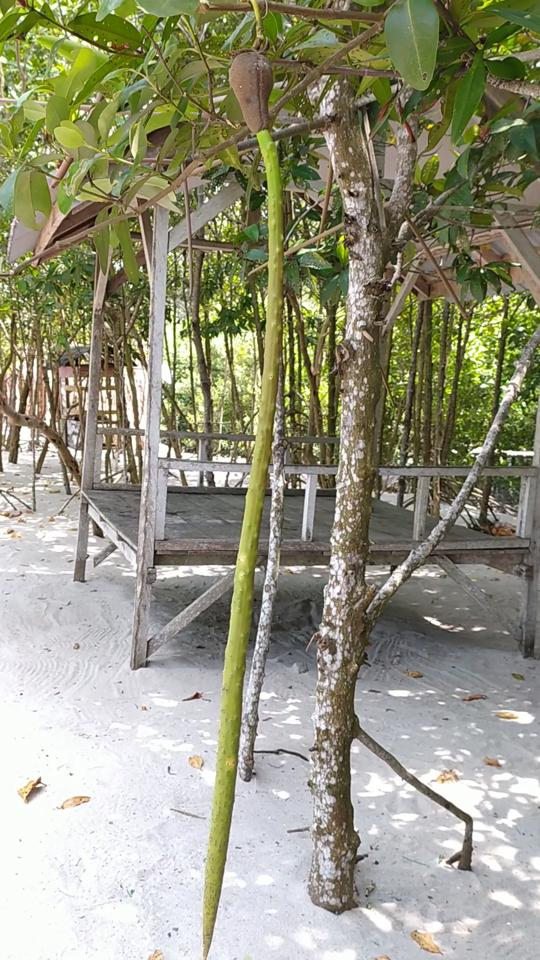mentah: (174, 41, 306, 956)
